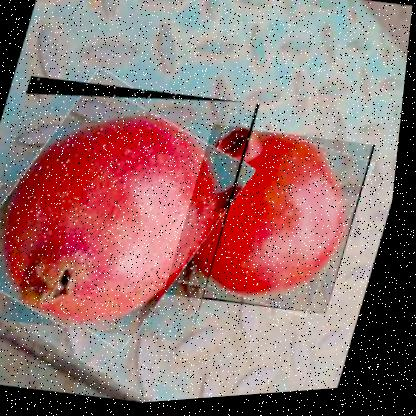pomegranate: (0, 61, 267, 360), (167, 118, 382, 329)
